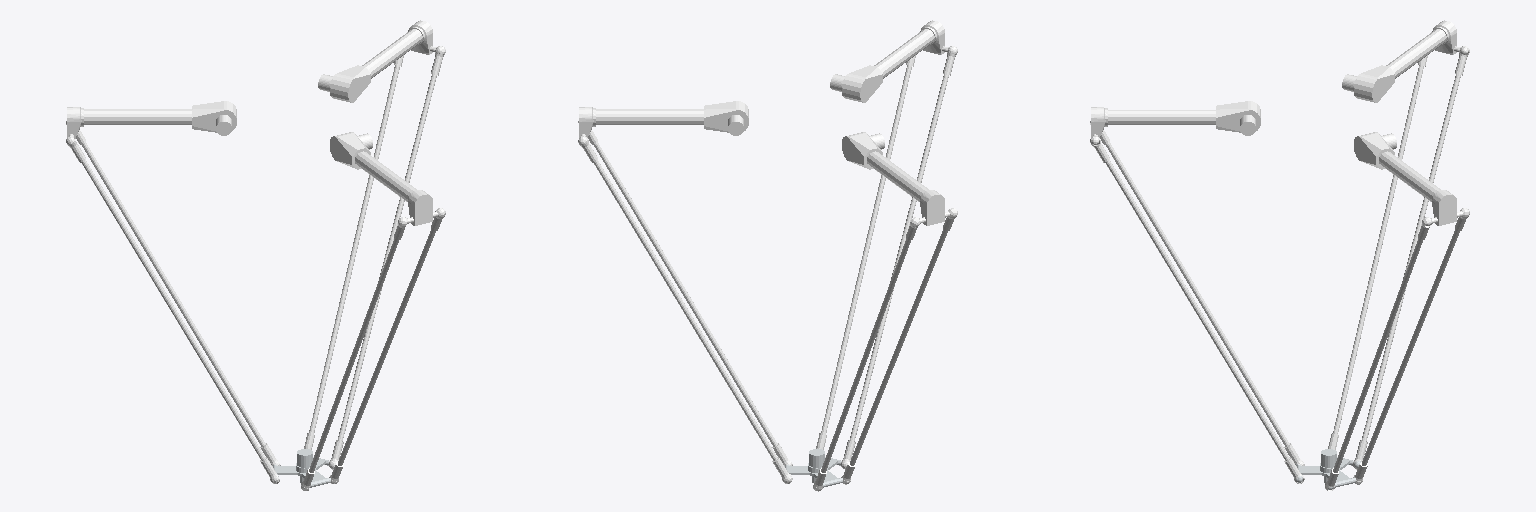
robot.urdf — delta3:
<?xml version="1.0" encoding="utf-8"?>
<!-- This URDF was automatically created by SolidWorks to URDF Exporter! Originally created by [author] ([email redacted]) 
     Commit Version: 1.6.0-1-g15f4949  Build Version: 1.6.7594.29634
     For more information, please see http://wiki.ros.org/sw_urdf_exporter -->
<robot
  name="delta3">
  <link
    name="base_link">
    <inertial>
      <origin
        xyz="0.380382318022096 -0.53352580397799 0.659302446320337"
        rpy="0 0 0" />
      <mass
        value="156.162689770185" />
      <inertia
        ixx="7.59889681143528"
        ixy="9.24660486503926E-05"
        ixz="-0.000259409545019047"
        iyy="7.59824264740178"
        iyz="0.000102275137498681"
        izz="10.3617884952824" />
    </inertial>
    <visual>
      <origin
        xyz="0 0 0"
        rpy="0 0 0" />
      <geometry>
        <mesh
          filename="package://delta3/meshes/base_link.STL" />
      </geometry>
      <material
        name="">
        <color
          rgba="1 1 1 1" />
      </material>
    </visual>
    <collision>
      <origin
        xyz="0 0 0"
        rpy="0 0 0" />
      <geometry>
        <mesh
          filename="package://delta3/meshes/base_link.STL" />
      </geometry>
    </collision>
  </link>
  <link
    name="upper_arm1">
    <inertial>
      <origin
        xyz="0.114792252146982 0.00182152585989759 0.0495423331065887"
        rpy="0 0 0" />
      <mass
        value="0.646884412038514" />
      <inertia
        ixx="0.000166776951356192"
        ixy="-0.000187543246495448"
        ixz="-4.04262175377727E-09"
        iyy="0.00675559133337472"
        iyz="6.15021017047886E-11"
        izz="0.0067770914347623" />
    </inertial>
    <visual>
      <origin
        xyz="0 0 0"
        rpy="0 0 0" />
      <geometry>
        <mesh
          filename="package://delta3/meshes/upper_arm1.STL" />
      </geometry>
      <material
        name="">
        <color
          rgba="1 1 1 1" />
      </material>
    </visual>
    <collision>
      <origin
        xyz="0 0 0"
        rpy="0 0 0" />
      <geometry>
        <mesh
          filename="package://delta3/meshes/upper_arm1.STL" />
      </geometry>
    </collision>
  </link>
  <joint
    name="joint1"
    type="revolute">
    <origin
      xyz="0.332874358144467 -0.683521580995339 0.398756986704061"
      rpy="-1.5707963267949 0 -1.5707963267949" />
    <parent
      link="base_link" />
    <child
      link="upper_arm1" />
    <axis
      xyz="0 0 1" />
    <limit
      lower="0"
      upper="3.1416"
      effort="0"
      velocity="0" />
  </joint>
  <link
    name="lower_arm1">
    <inertial>
      <origin
        xyz="-0.038564721474792 -0.395441709949408 0.00405635944419502"
        rpy="0 0 0" />
      <mass
        value="0.25492151618481" />
      <inertia
        ixx="0.0162920368473119"
        ixy="0.000189885453090978"
        ixz="1.85041042902092E-06"
        iyy="9.64407573212053E-06"
        iyz="-8.02477692587143E-05"
        izz="0.0162956013994657" />
    </inertial>
    <visual>
      <origin
        xyz="0 0 0"
        rpy="0 0 0" />
      <geometry>
        <mesh
          filename="package://delta3/meshes/lower_arm1.STL" />
      </geometry>
      <material
        name="">
        <color
          rgba="1 1 1 1" />
      </material>
    </visual>
    <collision>
      <origin
        xyz="0 0 0"
        rpy="0 0 0" />
      <geometry>
        <mesh
          filename="package://delta3/meshes/lower_arm1.STL" />
      </geometry>
    </collision>
  </link>
  <joint
    name="joint_lower1"
    type="continuous">
    <origin
      xyz="0.272569839075917 0.0246294631227099 0.00529664007075714"
      rpy="-0.0325087905561728 1.17076498742548 -2.67328944867135" />
    <parent
      link="upper_arm1" />
    <child
      link="lower_arm1" />
    <axis
      xyz="0.558523722970762 0 0.82948854776837" />
  </joint>
  <link
    name="upper_arm2">
    <inertial>
      <origin
        xyz="0.114792221305799 -0.00182152765219495 0.184356660884912"
        rpy="0 0 0" />
      <mass
        value="0.646884127953808" />
      <inertia
        ixx="0.000166777031838409"
        ixy="0.000187543435284771"
        ixz="4.36611672621198E-09"
        iyy="0.00675559025398928"
        iyz="7.91226234785882E-11"
        izz="0.00677709036650219" />
    </inertial>
    <visual>
      <origin
        xyz="0 0 0"
        rpy="0 0 0" />
      <geometry>
        <mesh
          filename="package://delta3/meshes/upper_arm2.STL" />
      </geometry>
      <material
        name="">
        <color
          rgba="1 1 1 1" />
      </material>
    </visual>
    <collision>
      <origin
        xyz="0 0 0"
        rpy="0 0 0" />
      <geometry>
        <mesh
          filename="package://delta3/meshes/upper_arm2.STL" />
      </geometry>
    </collision>
  </link>
  <joint
    name="joint2"
    type="revolute">
    <origin
      xyz="0.417078668164106 -0.297095310806117 0.398756986704061"
      rpy="1.5707963267949 0 0.523598775598305" />
    <parent
      link="base_link" />
    <child
      link="upper_arm2" />
    <axis
      xyz="0 0 1" />
    <limit
      lower="-1.8717"
      upper="1.2699"
      effort="0"
      velocity="0" />
  </joint>
  <link
    name="lower_arm2">
    <inertial>
      <origin
        xyz="-0.106055427510473 -0.39544439868225 0.150769042438625"
        rpy="0 0 0" />
      <mass
        value="0.254921517015059" />
      <inertia
        ixx="0.0162961618156893"
        ixy="-4.65485707678144E-05"
        ixz="-1.154546742351E-06"
        iyy="9.64407858575034E-06"
        iyz="-0.000200822067603626"
        izz="0.0162914765757807" />
    </inertial>
    <visual>
      <origin
        xyz="0 0 0"
        rpy="0 0 0" />
      <geometry>
        <mesh
          filename="package://delta3/meshes/lower_arm2.STL" />
      </geometry>
      <material
        name="">
        <color
          rgba="1 1 1 1" />
      </material>
    </visual>
    <collision>
      <origin
        xyz="0 0 0"
        rpy="0 0 0" />
      <geometry>
        <mesh
          filename="package://delta3/meshes/lower_arm2.STL" />
      </geometry>
    </collision>
  </link>
  <joint
    name="joint_lower2"
    type="continuous">
    <origin
      xyz="0.161268370049302 0.0346872050122739 0.314264003482573"
      rpy="3.12859851500547 0.227751807455416 2.64041159012637" />
    <parent
      link="upper_arm2" />
    <child
      link="lower_arm2" />
    <axis
      xyz="0.699045374184477 0 -0.71507731388381" />
  </joint>
  <link
    name="upper_arm3">
    <inertial>
      <origin
        xyz="0.114792190956304 -0.00182152531049123 -0.0251673198673814"
        rpy="0 0 0" />
      <mass
        value="0.6468839708117" />
      <inertia
        ixx="0.00016677683670584"
        ixy="0.000187543268799455"
        ixz="3.21501573317072E-09"
        iyy="0.00675558779094135"
        iyz="3.68581743488317E-11"
        izz="0.00677708810261763" />
    </inertial>
    <visual>
      <origin
        xyz="0 0 0"
        rpy="0 0 0" />
      <geometry>
        <mesh
          filename="package://delta3/meshes/upper_arm3.STL" />
      </geometry>
      <material
        name="">
        <color
          rgba="1 1 1 1" />
      </material>
    </visual>
    <collision>
      <origin
        xyz="0 0 0"
        rpy="0 0 0" />
      <geometry>
        <mesh
          filename="package://delta3/meshes/upper_arm3.STL" />
      </geometry>
    </collision>
  </link>
  <joint
    name="joint3"
    type="revolute">
    <origin
      xyz="0.2620330475768 -0.438494743532825 0.398756986704061"
      rpy="1.5707963267949 0 2.6179938779915" />
    <parent
      link="base_link" />
    <child
      link="upper_arm3" />
    <axis
      xyz="0 0 1" />
    <limit
      lower="-2.312"
      upper="0.82957"
      effort="0"
      velocity="0" />
  </joint>
  <link
    name="lower_arm3">
    <inertial>
      <origin
        xyz="0.0213350934780641 -0.286588133575785 -0.0277887227959333"
        rpy="0 0 0" />
      <mass
        value="0.254921517264014" />
      <inertia
        ixx="0.0162945570542806"
        ixy="-0.000125065415921308"
        ixz="2.55139020084814E-06"
        iyy="9.64403175115156E-06"
        iyz="0.000163872067994975"
        izz="0.0162930814287885" />
    </inertial>
    <visual>
      <origin
        xyz="0 0 0"
        rpy="0 0 0" />
      <geometry>
        <mesh
          filename="package://delta3/meshes/lower_arm3.STL" />
      </geometry>
      <material
        name="">
        <color
          rgba="1 1 1 1" />
      </material>
    </visual>
    <collision>
      <origin
        xyz="0 0 0"
        rpy="0 0 0" />
      <geometry>
        <mesh
          filename="package://delta3/meshes/lower_arm3.STL" />
      </geometry>
    </collision>
  </link>
  <joint
    name="joint_lower3"
    type="continuous">
    <origin
      xyz="0.230483769451967 -0.125613066735207 0.0154970866079977"
      rpy="0.0159234215285503 0.651825739186271 -0.488586704778935" />
    <parent
      link="upper_arm3" />
    <child
      link="lower_arm3" />
    <axis
      xyz="0 1 0" />
  </joint>
  <link
    name="target">
    <inertial>
      <origin
        xyz="-1.98729921407903E-14 0.00734510079555417 2.69656408313779E-10"
        rpy="0 0 0" />
      <mass
        value="0.20739711244002" />
      <inertia
        ixx="0.000172568881403432"
        ixy="-4.09940800786399E-19"
        ixz="5.33395125137355E-19"
        iyy="0.000277154102529208"
        iyz="3.8980875644572E-13"
        izz="0.000172568841088829" />
    </inertial>
    <visual>
      <origin
        xyz="0 0 0"
        rpy="0 0 0" />
      <geometry>
        <mesh
          filename="package://delta3/meshes/target.STL" />
      </geometry>
      <material
        name="">
        <color
          rgba="0.898039215686275 0.917647058823529 0.929411764705882 1" />
      </material>
    </visual>
    <collision>
      <origin
        xyz="0 0 0"
        rpy="0 0 0" />
      <geometry>
        <mesh
          filename="package://delta3/meshes/target.STL" />
      </geometry>
    </collision>
  </link>
  <joint
    name="joint_targer"
    type="fixed">
    <origin
      xyz="0.380374358144462 -0.533521580995337 -0.325140520136826"
      rpy="1.5707963267949 0 -3.14159265358979" />
    <parent
      link="base_link" />
    <child
      link="target" />
    <axis
      xyz="0 0 0" />
  </joint>
</robot>

--- Facts derived from the render (not from the file) ---
The picture shows the robot from 3 angles, left to right: view 1: azimuth 30°, elevation 25°; view 2: azimuth 150°, elevation 25°; view 3: azimuth 270°, elevation 25°; orthographic projection.
Model delta3 with 8 links and 7 joints (3 revolute, 3 continuous, 1 fixed), rooted at base_link, posed every joint at zero.
Links seen in each view (by area): view 1: lower_arm3, lower_arm2, upper_arm3, lower_arm1, upper_arm1, upper_arm2, target; view 2: lower_arm2, lower_arm1, upper_arm2, lower_arm3, upper_arm3, upper_arm1, target; view 3: lower_arm1, lower_arm3, upper_arm1, lower_arm2, upper_arm2, upper_arm3, target.
Boxes of the visible links, left/top/right/bottom form: lower_arm3: left=66, top=121, right=280, bottom=483; lower_arm2: left=304, top=37, right=445, bottom=469; upper_arm3: left=67, top=101, right=236, bottom=139; lower_arm1: left=301, top=208, right=445, bottom=490; upper_arm1: left=330, top=132, right=437, bottom=225; upper_arm2: left=318, top=20, right=436, bottom=102; target: left=273, top=449, right=330, bottom=487; lower_arm2: left=578, top=121, right=792, bottom=483; lower_arm1: left=816, top=37, right=957, bottom=469; upper_arm2: left=579, top=101, right=748, bottom=137; lower_arm3: left=813, top=208, right=957, bottom=491; upper_arm3: left=842, top=132, right=949, bottom=225; upper_arm1: left=830, top=20, right=948, bottom=102; target: left=785, top=449, right=842, bottom=487; lower_arm1: left=1090, top=121, right=1304, bottom=483; lower_arm3: left=1328, top=46, right=1469, bottom=469; upper_arm1: left=1091, top=101, right=1260, bottom=144; lower_arm2: left=1325, top=208, right=1469, bottom=491; upper_arm2: left=1354, top=132, right=1462, bottom=225; upper_arm3: left=1342, top=20, right=1468, bottom=102; target: left=1295, top=449, right=1360, bottom=489.
Bounding box of the posed robot: 0.8087 × 0.7033 × 0.7739 m (x, y, z).
7 mesh visuals loaded from 8 distinct referenced files (7 binary STL); not drawn: 1 (reference not matched to a file when rendering).